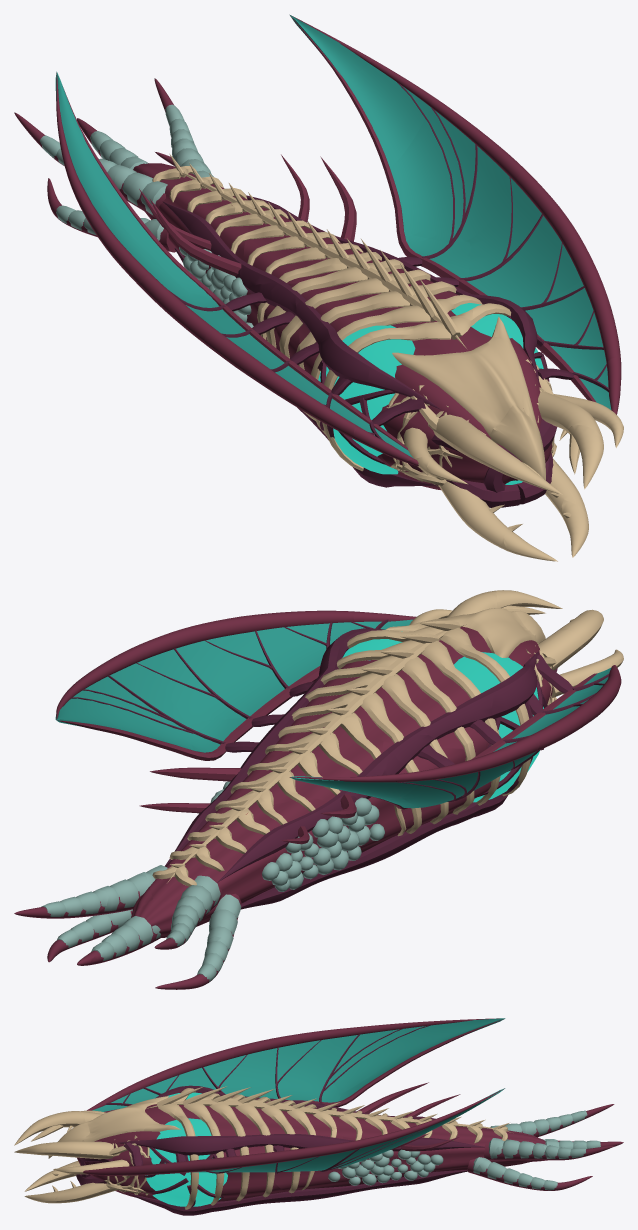
The model's file is unknown_contact_v2_wreck.glb.
3 views of the same model, one above another, from view 1: azimuth 30°, elevation 25°; view 2: azimuth 150°, elevation 25°; view 3: azimuth 270°, elevation 25° (orthographic). The views are drawn at different scales.
Visible parts, largest first — view 1: unknown_contact_v2_wreck_02, unknown_contact_v2_wreck_12, unknown_contact_v2_wreck_05, unknown_contact_v2_wreck_19, unknown_contact_v2_wreck_08, unknown_contact_v2_wreck_16, unknown_contact_v2_wreck_11, unknown_contact_v2_wreck_18, unknown_contact_v2_wreck_20, unknown_contact_v2_wreck_07, unknown_contact_v2_wreck_25, unknown_contact_v2_wreck_00 (+12 smaller); view 2: unknown_contact_v2_wreck_05, unknown_contact_v2_wreck_19, unknown_contact_v2_wreck_00, unknown_contact_v2_wreck_24, unknown_contact_v2_wreck_18, unknown_contact_v2_wreck_02, unknown_contact_v2_wreck_08, unknown_contact_v2_wreck_12, unknown_contact_v2_wreck_09, unknown_contact_v2_wreck_16, unknown_contact_v2_wreck_17, unknown_contact_v2_wreck_14 (+10 smaller); view 3: unknown_contact_v2_wreck_08, unknown_contact_v2_wreck_07, unknown_contact_v2_wreck_09, unknown_contact_v2_wreck_13, unknown_contact_v2_wreck_01, unknown_contact_v2_wreck_05, unknown_contact_v2_wreck_20, unknown_contact_v2_wreck_16, unknown_contact_v2_wreck_00, unknown_contact_v2_wreck_02, unknown_contact_v2_wreck_04, unknown_contact_v2_wreck_10 (+11 smaller).
Part boxes in pixels (box(x1,y1,x2,y2)): unknown_contact_v2_wreck_02: box(353, 309, 523, 469); unknown_contact_v2_wreck_12: box(385, 98, 528, 241); unknown_contact_v2_wreck_05: box(295, 238, 472, 374); unknown_contact_v2_wreck_19: box(465, 172, 597, 307); unknown_contact_v2_wreck_08: box(468, 269, 621, 382); unknown_contact_v2_wreck_16: box(204, 330, 375, 438); unknown_contact_v2_wreck_11: box(427, 404, 603, 561); unknown_contact_v2_wreck_18: box(102, 189, 249, 304); unknown_contact_v2_wreck_20: box(520, 356, 623, 515); unknown_contact_v2_wreck_07: box(140, 274, 302, 368); unknown_contact_v2_wreck_25: box(397, 450, 563, 551); unknown_contact_v2_wreck_00: box(114, 154, 255, 272); unknown_contact_v2_wreck_05: box(313, 620, 496, 756); unknown_contact_v2_wreck_19: box(135, 616, 319, 719); unknown_contact_v2_wreck_00: box(145, 806, 295, 949); unknown_contact_v2_wreck_24: box(227, 708, 388, 803); unknown_contact_v2_wreck_18: box(246, 787, 423, 895); unknown_contact_v2_wreck_02: box(415, 608, 621, 705); unknown_contact_v2_wreck_08: box(244, 610, 419, 697); unknown_contact_v2_wreck_12: box(75, 646, 197, 758); unknown_contact_v2_wreck_09: box(188, 684, 358, 767); unknown_contact_v2_wreck_16: box(485, 661, 621, 760); unknown_contact_v2_wreck_17: box(90, 898, 229, 989); unknown_contact_v2_wreck_14: box(321, 741, 461, 881); unknown_contact_v2_wreck_08: box(126, 1115, 236, 1205); unknown_contact_v2_wreck_07: box(233, 1034, 341, 1105); unknown_contact_v2_wreck_09: box(247, 1103, 356, 1201); unknown_contact_v2_wreck_13: box(300, 1022, 411, 1093); unknown_contact_v2_wreck_01: box(344, 1116, 452, 1194); unknown_contact_v2_wreck_05: box(174, 1086, 294, 1140); unknown_contact_v2_wreck_20: box(44, 1130, 139, 1203); unknown_contact_v2_wreck_16: box(122, 1047, 234, 1102); unknown_contact_v2_wreck_00: box(427, 1094, 529, 1175); unknown_contact_v2_wreck_02: box(82, 1090, 180, 1132); unknown_contact_v2_wreck_04: box(190, 1148, 296, 1215); unknown_contact_v2_wreck_10: box(476, 1137, 569, 1190).
Bounding box in the file's own units: 5.57 × 3.15 × 12.
